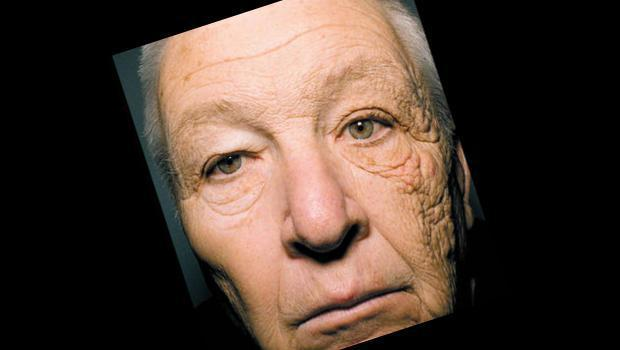Sober: (172, 50, 445, 326)
